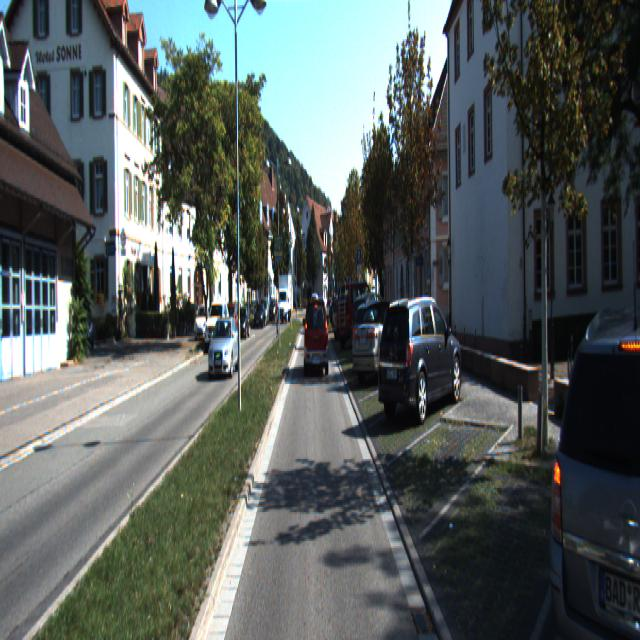Car: (544, 319, 640, 638), (376, 290, 463, 422), (350, 299, 412, 385), (349, 290, 394, 360), (335, 282, 378, 348), (208, 316, 240, 379), (305, 298, 330, 376), (332, 297, 366, 341), (206, 302, 230, 352), (221, 300, 241, 342), (75, 306, 95, 348), (277, 276, 293, 322), (194, 304, 210, 341), (254, 304, 266, 329)
